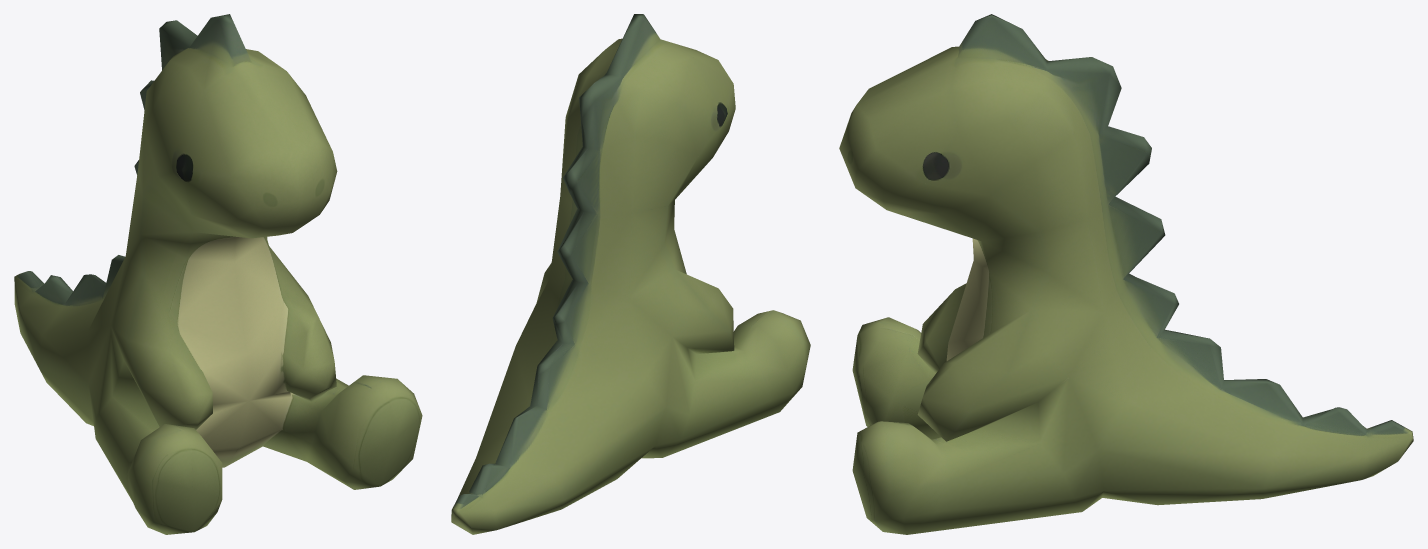
Rendered from plush_dino.glb.
3 renders of one model, left to right at view 1: azimuth 30°, elevation 25°; view 2: azimuth 150°, elevation 25°; view 3: azimuth 270°, elevation 25°, orthographic. The views are drawn at different scales.
Size of the model in its own units: 0.5601 by 0.8589 by 0.9692.
1 material, 1 textured.
